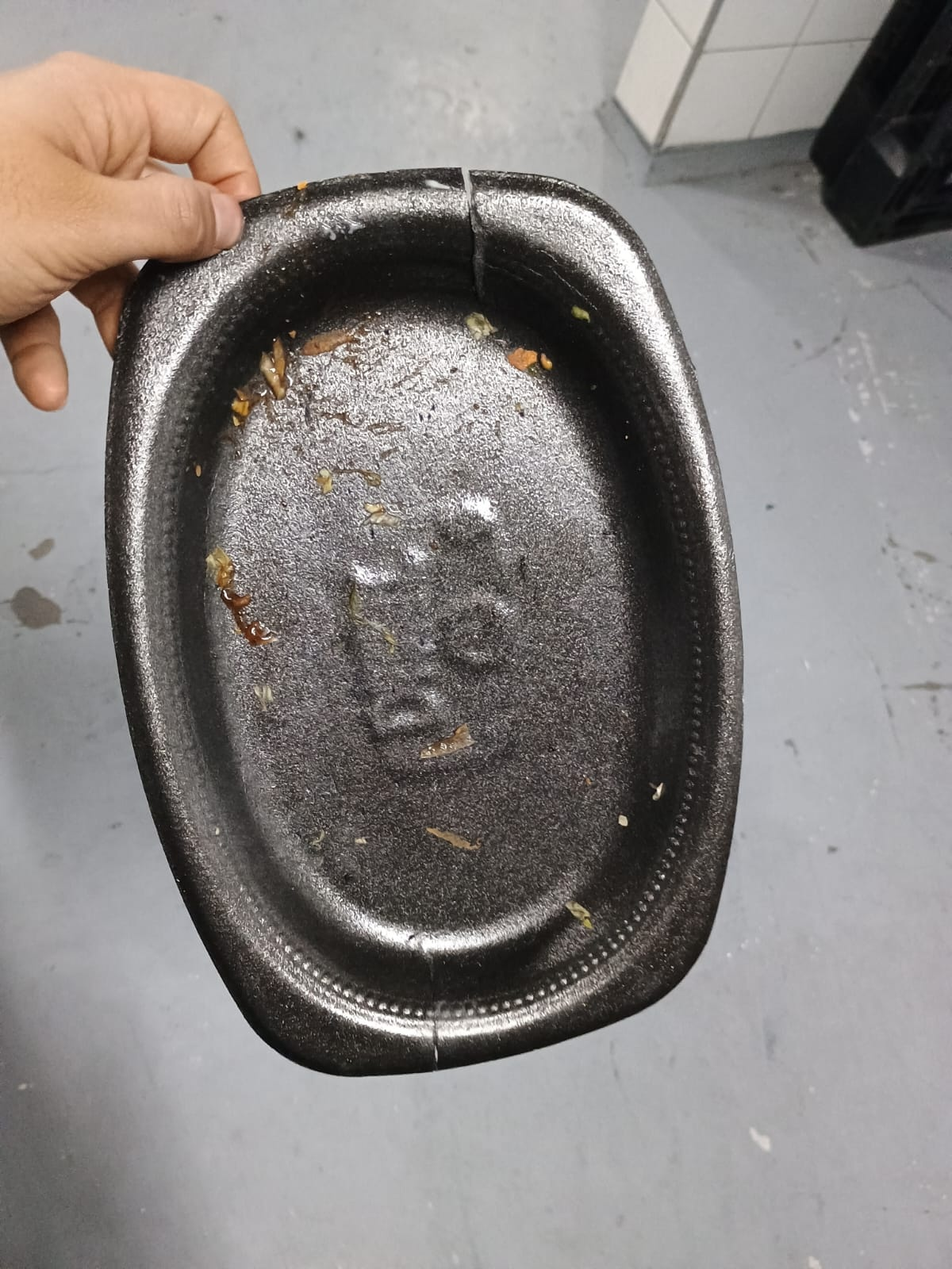Ordinario: (106, 173, 747, 1080)
